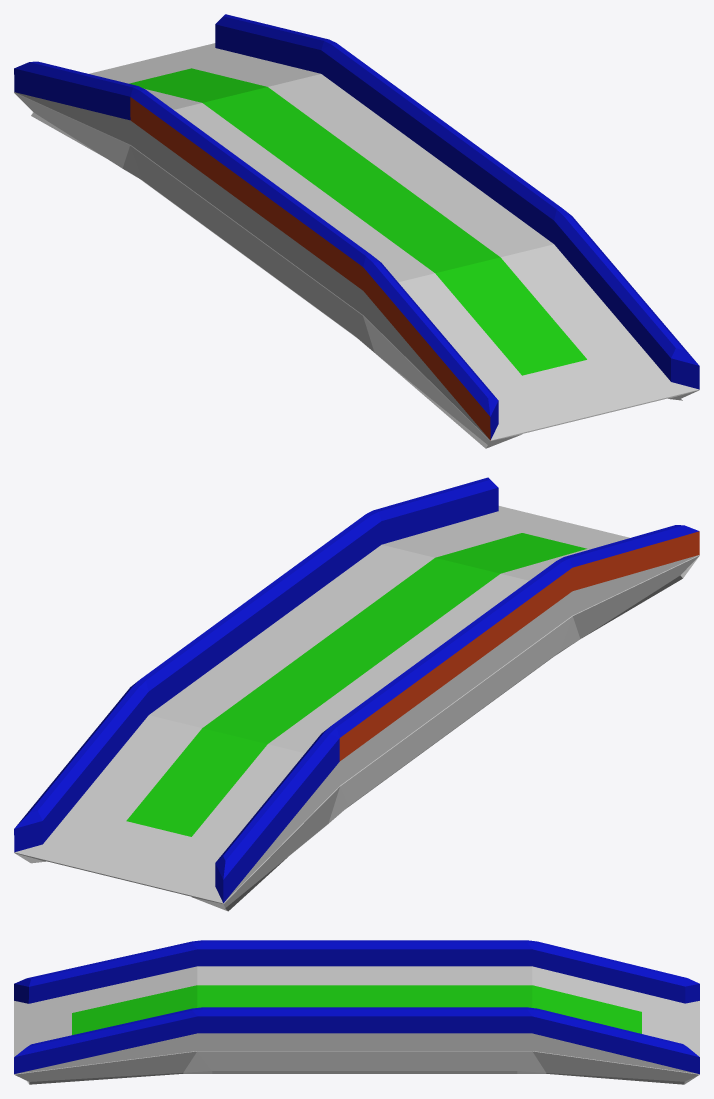
Rendered from Pont.dae.
3 renders of one model, top to bottom at view 1: azimuth 30°, elevation 25°; view 2: azimuth 150°, elevation 25°; view 3: azimuth 270°, elevation 25°, orthographic. The views are drawn at different scales.
Parts seen in each view (by area): view 1: Cube.023_Cube.024 (×2), Cube.030_Cube.031, Cube.031_Cube.032; view 2: Cube.023_Cube.024 (×2), Cube.030_Cube.031, Cube.031_Cube.032; view 3: Cube.023_Cube.024 (×2), Cube.030_Cube.031.
Boxes of the visible parts, bbox=[...] form: Cube.023_Cube.024 (×2): bbox=[14, 43, 699, 448]; Cube.030_Cube.031: bbox=[14, 14, 699, 439]; Cube.031_Cube.032: bbox=[130, 97, 490, 440]; Cube.023_Cube.024 (×2): bbox=[14, 506, 699, 911]; Cube.030_Cube.031: bbox=[14, 477, 698, 902]; Cube.031_Cube.032: bbox=[339, 531, 699, 761]; Cube.023_Cube.024 (×2): bbox=[14, 966, 699, 1084]; Cube.030_Cube.031: bbox=[14, 940, 699, 1074].
Bounding box in the file's own units: 7.61 × 3.86 × 29.91.
